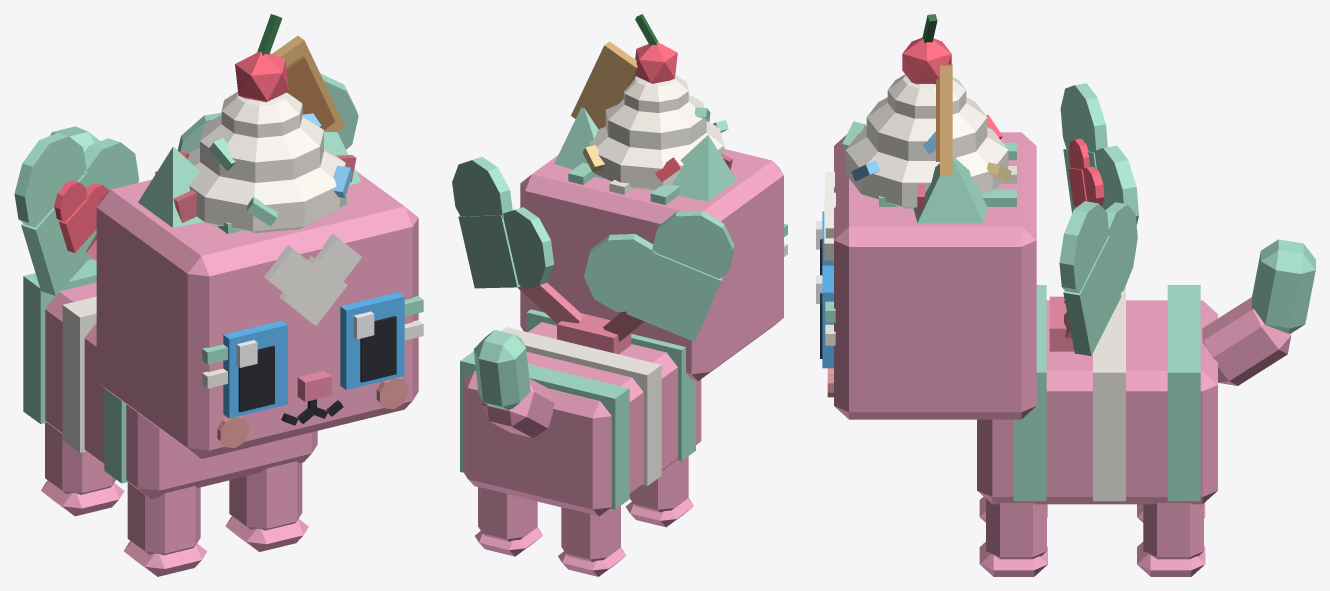
Rendered from CleanACat_Cat_Sherbet.fbx.
3 views of the same model, side by side, from view 1: azimuth 30°, elevation 25°; view 2: azimuth 150°, elevation 25°; view 3: azimuth 270°, elevation 25° (orthographic). The views are drawn at different scales.
Visible parts, largest first — view 1: CleanACat_Cat_Sherbet_Head, CleanACat_Cat_Sherbet_Body, CleanACat_Cat_Sherbet_Prop, CleanACat_Cat_Sherbet_Prop2, CleanACat_Cat_Sherbet_LegF2, CleanACat_Cat_Sherbet_LegF1, CleanACat_Cat_Sherbet_Eye1, CleanACat_Cat_Sherbet_Eye2, CleanACat_Cat_Sherbet_LegB2, CleanACat_Cat_Sherbet_EarR, CleanACat_Cat_Sherbet_Wings_Glow, CleanACat_Cat_Sherbet_Cherry_Glow (+1 smaller); view 2: CleanACat_Cat_Sherbet_Body, CleanACat_Cat_Sherbet_Head, CleanACat_Cat_Sherbet_Prop2, CleanACat_Cat_Sherbet_Prop, CleanACat_Cat_Sherbet_Tail, CleanACat_Cat_Sherbet_LegB2, CleanACat_Cat_Sherbet_LegB1, CleanACat_Cat_Sherbet_LegF2, CleanACat_Cat_Sherbet_EarR, CleanACat_Cat_Sherbet_Cherry_Glow, CleanACat_Cat_Sherbet_EarL; view 3: CleanACat_Cat_Sherbet_Head, CleanACat_Cat_Sherbet_Body, CleanACat_Cat_Sherbet_Prop, CleanACat_Cat_Sherbet_Prop2, CleanACat_Cat_Sherbet_Tail, CleanACat_Cat_Sherbet_LegF1, CleanACat_Cat_Sherbet_LegB1, CleanACat_Cat_Sherbet_EarL, CleanACat_Cat_Sherbet_Cherry_Glow, CleanACat_Cat_Sherbet_Wings_Glow, CleanACat_Cat_Sherbet_Eye1.
Part boxes in pixels (x1,y1,x2,y2): CleanACat_Cat_Sherbet_Head: (96,171,423,458); CleanACat_Cat_Sherbet_Body: (23,259,317,499); CleanACat_Cat_Sherbet_Prop: (179,14,352,233); CleanACat_Cat_Sherbet_Prop2: (14,73,358,295); CleanACat_Cat_Sherbet_LegF2: (124,482,207,576); CleanACat_Cat_Sherbet_LegF1: (225,461,308,551); CleanACat_Cat_Sherbet_Eye1: (340,292,404,389); CleanACat_Cat_Sherbet_Eye2: (223,320,287,418); CleanACat_Cat_Sherbet_LegB2: (41,422,124,516); CleanACat_Cat_Sherbet_EarR: (138,146,203,227); CleanACat_Cat_Sherbet_Wings_Glow: (54,180,109,252); CleanACat_Cat_Sherbet_Cherry_Glow: (235,51,288,102); CleanACat_Cat_Sherbet_Body: (460,309,701,516); CleanACat_Cat_Sherbet_Head: (520,148,787,381); CleanACat_Cat_Sherbet_Prop2: (452,157,734,354); CleanACat_Cat_Sherbet_Prop: (571,14,728,189); CleanACat_Cat_Sherbet_Tail: (473,330,554,437); CleanACat_Cat_Sherbet_LegB2: (558,506,626,576); CleanACat_Cat_Sherbet_LegB1: (475,487,542,556); CleanACat_Cat_Sherbet_LegF2: (625,456,693,527); CleanACat_Cat_Sherbet_EarR: (652,135,736,201); CleanACat_Cat_Sherbet_Cherry_Glow: (635,42,677,83); CleanACat_Cat_Sherbet_EarL: (554,107,604,178); CleanACat_Cat_Sherbet_Head: (824,132,1036,419); CleanACat_Cat_Sherbet_Body: (977,285,1217,504); CleanACat_Cat_Sherbet_Prop: (842,14,1011,208); CleanACat_Cat_Sherbet_Prop2: (1049,83,1138,355); CleanACat_Cat_Sherbet_Tail: (1202,239,1315,385); CleanACat_Cat_Sherbet_LegF1: (979,499,1047,576); CleanACat_Cat_Sherbet_LegB1: (1137,503,1205,576); CleanACat_Cat_Sherbet_EarL: (913,156,987,223); CleanACat_Cat_Sherbet_Cherry_Glow: (902,38,951,84); CleanACat_Cat_Sherbet_Wings_Glow: (1068,138,1104,206); CleanACat_Cat_Sherbet_Eye1: (816,265,833,368).
Bounding box in the file's own units: 1.48 × 2.34 × 1.97.
Materials: 1 (1 with a texture image).
